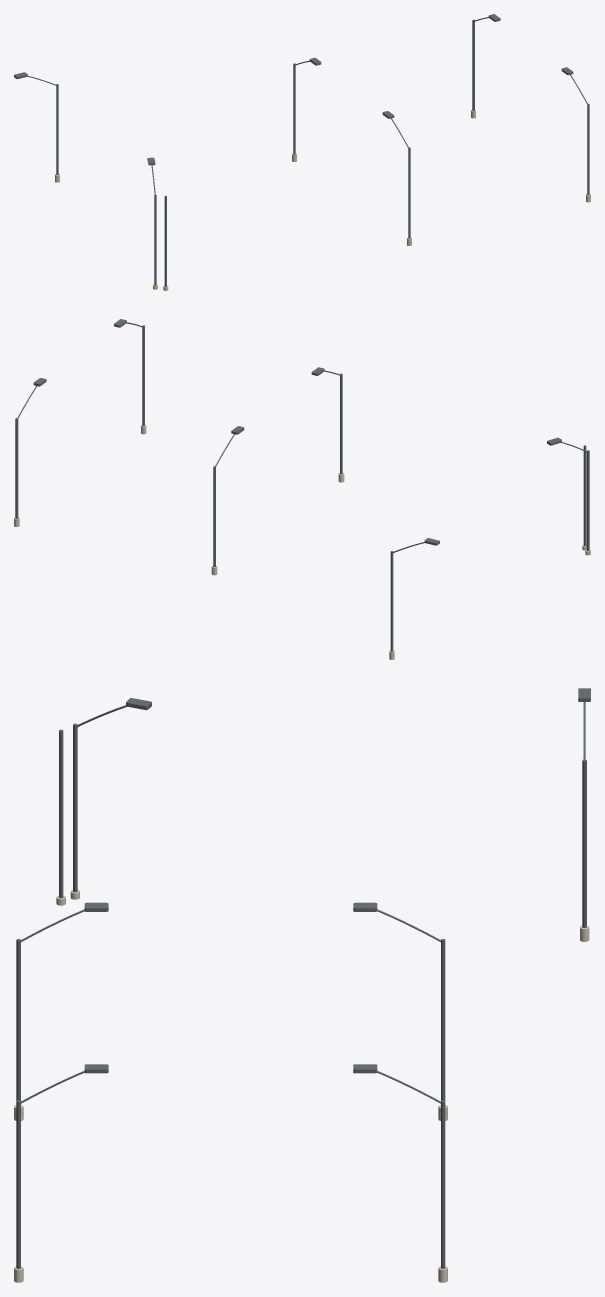
3 views of the same model, one above another, from view 1: azimuth 30°, elevation 25°; view 2: azimuth 150°, elevation 25°; view 3: azimuth 270°, elevation 25° (orthographic). The views are drawn at different scales.
Parts seen in each view (by area): view 1: buildings_s_-3_4_Dark_Metal; view 2: buildings_s_-3_4_Dark_Metal; view 3: buildings_s_-3_4_Dark_Metal, buildings_s_-3_4_Warm_Limestone.
Part boxes in pixels (x1=…): buildings_s_-3_4_Dark_Metal: x1=14, y1=14, x2=589, y2=286; buildings_s_-3_4_Dark_Metal: x1=15, y1=319, x2=589, y2=651; buildings_s_-3_4_Dark_Metal: x1=16, y1=688, x2=590, y2=1268; buildings_s_-3_4_Warm_Limestone: x1=14, y1=889, x2=589, y2=1282.
Size of the model in its own units: 63.8 by 16.75 by 40.79.
